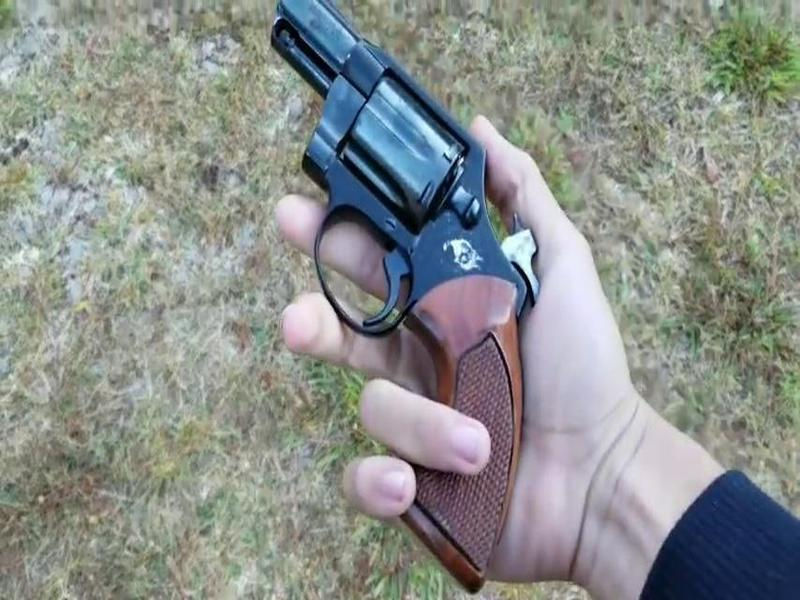Revolver: (260, 20, 556, 600)
